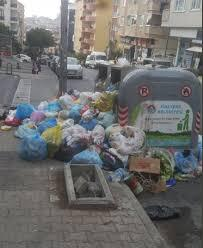Container: (117, 71, 203, 144), (99, 65, 135, 95)
Garbage: (6, 104, 110, 162), (49, 96, 116, 153), (118, 127, 151, 192), (154, 148, 203, 187), (143, 204, 184, 223)
